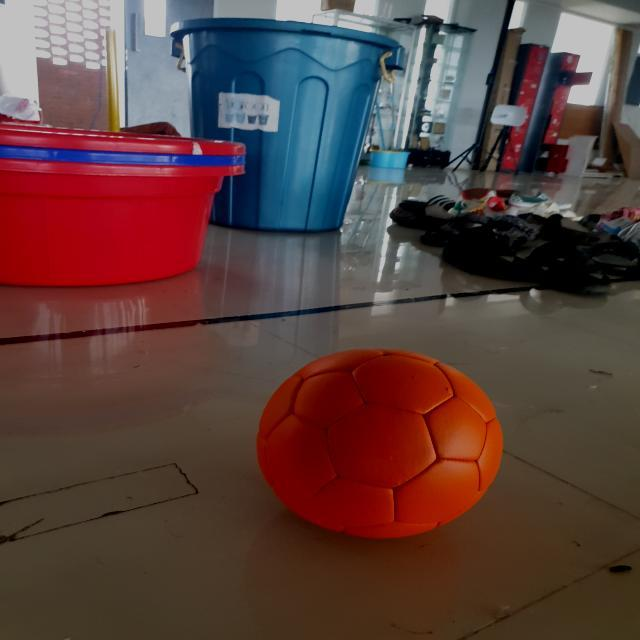bola: (250, 346, 507, 544)
